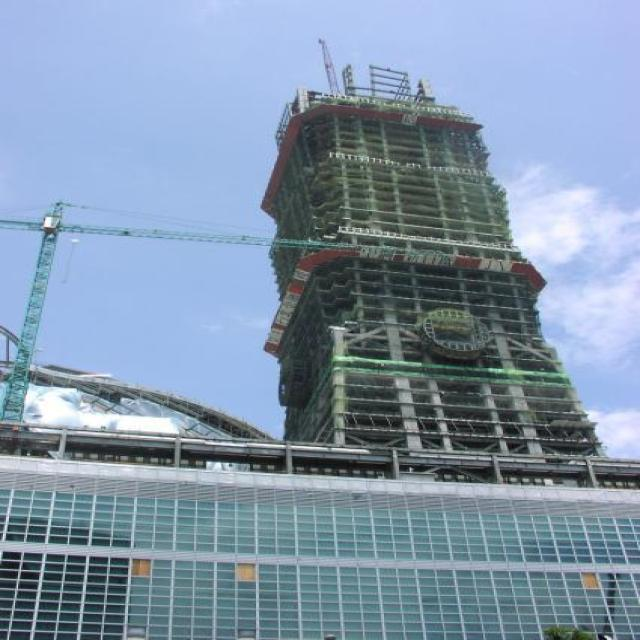building: (258, 34, 612, 466), (0, 422, 640, 640)
